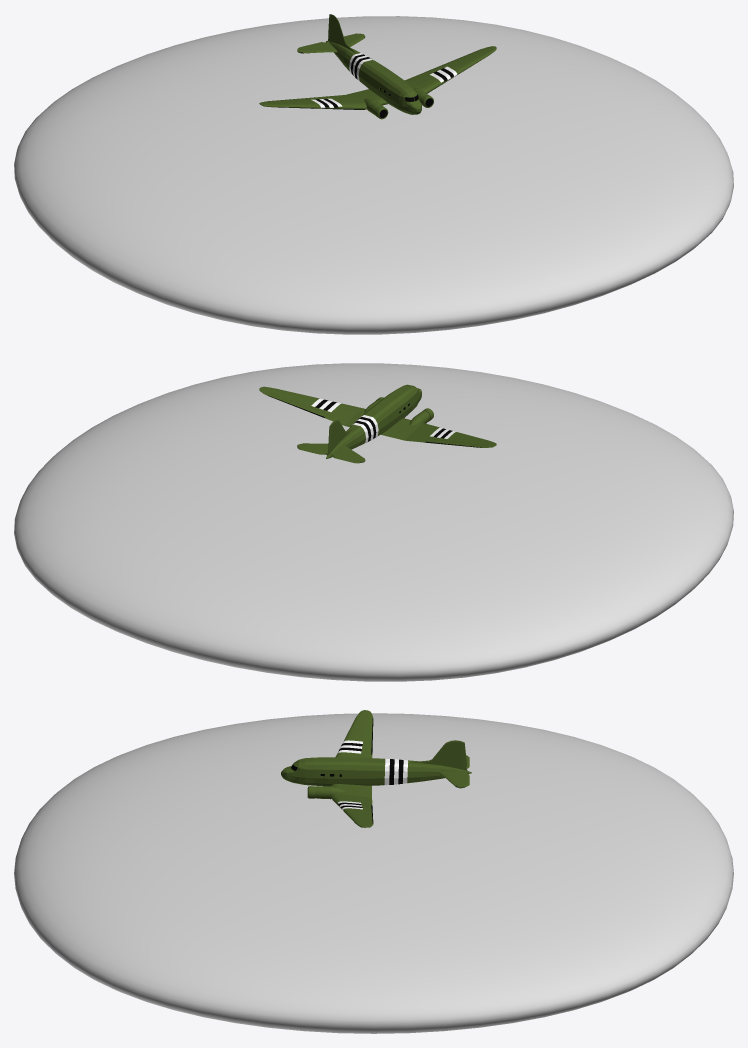
Rendered from airplane_dc3__dc3.glb.
3 views of the same model, one above another, from view 1: azimuth 30°, elevation 25°; view 2: azimuth 150°, elevation 25°; view 3: azimuth 270°, elevation 25° (orthographic).
Visible parts, largest first — view 1: Plane, Cube.001; view 2: Plane, Cube.001; view 3: Plane, Cube.001.
Boxes of the visible parts, x1,y1,x2,y2 form: Plane: (14,16,733,334); Cube.001: (259,14,496,119); Plane: (14,363,733,681); Cube.001: (259,384,496,463); Plane: (14,713,733,1033); Cube.001: (281,710,471,827).
Size of the model in its own units: 7.43 by 2.05 by 7.43.
Materials: 5 (4 with a texture image).
